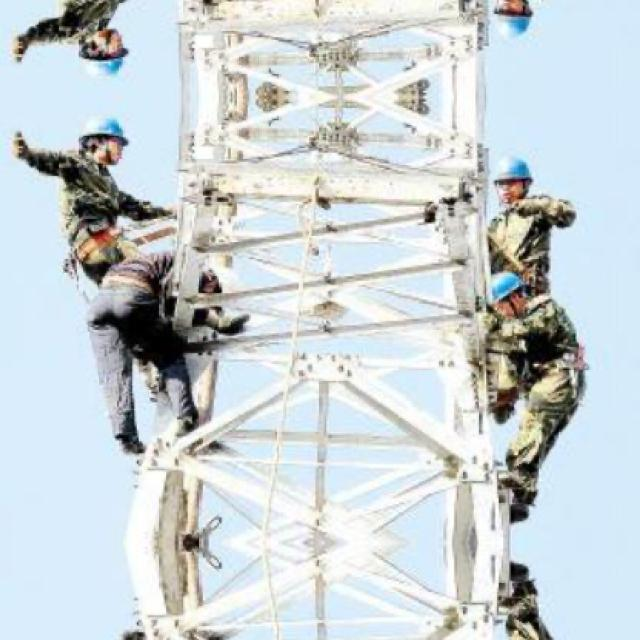con casco: (13, 107, 141, 188), (459, 142, 555, 222), (464, 268, 545, 330)
